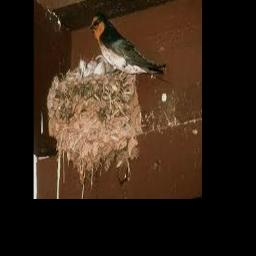Swallow: (90, 13, 166, 76)
